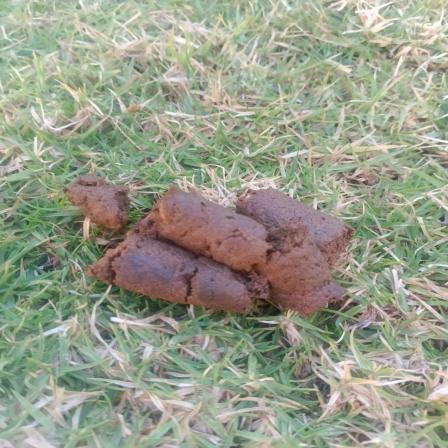dog-poop: (59, 159, 386, 335)
